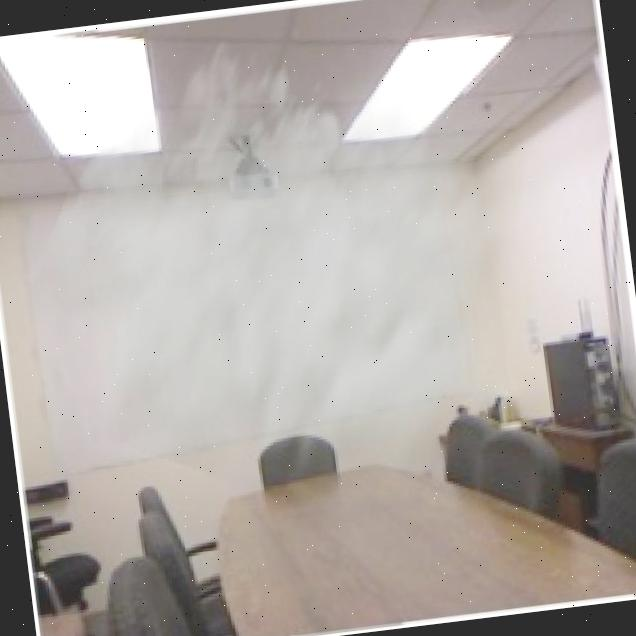smoke: (0, 3, 564, 582)
